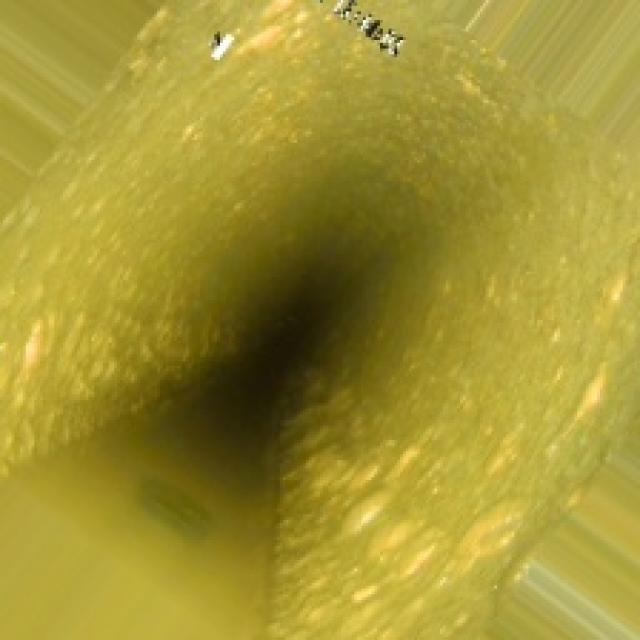encrustation: (103, 89, 603, 528)
